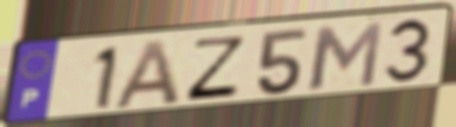1: (89, 44, 121, 112)
3: (380, 15, 437, 88)
5: (254, 25, 311, 97)
A: (110, 37, 184, 112)
M: (306, 19, 386, 93)
Z: (182, 35, 249, 103)
